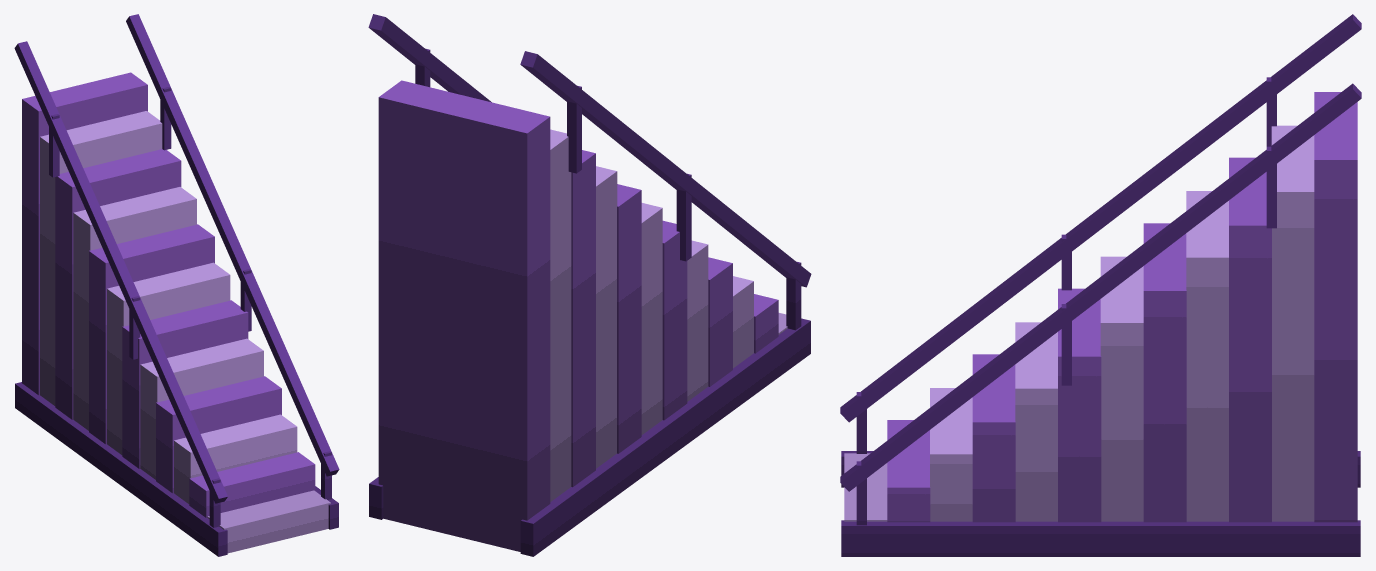
File: slope_crystal.glb
3 renders of one model, left to right at view 1: azimuth 30°, elevation 25°; view 2: azimuth 150°, elevation 25°; view 3: azimuth 270°, elevation 25°, orthographic. The views are drawn at different scales.
Size of the model in its own units: 1.04 by 3.02 by 3.05.
1 material, 1 textured.
